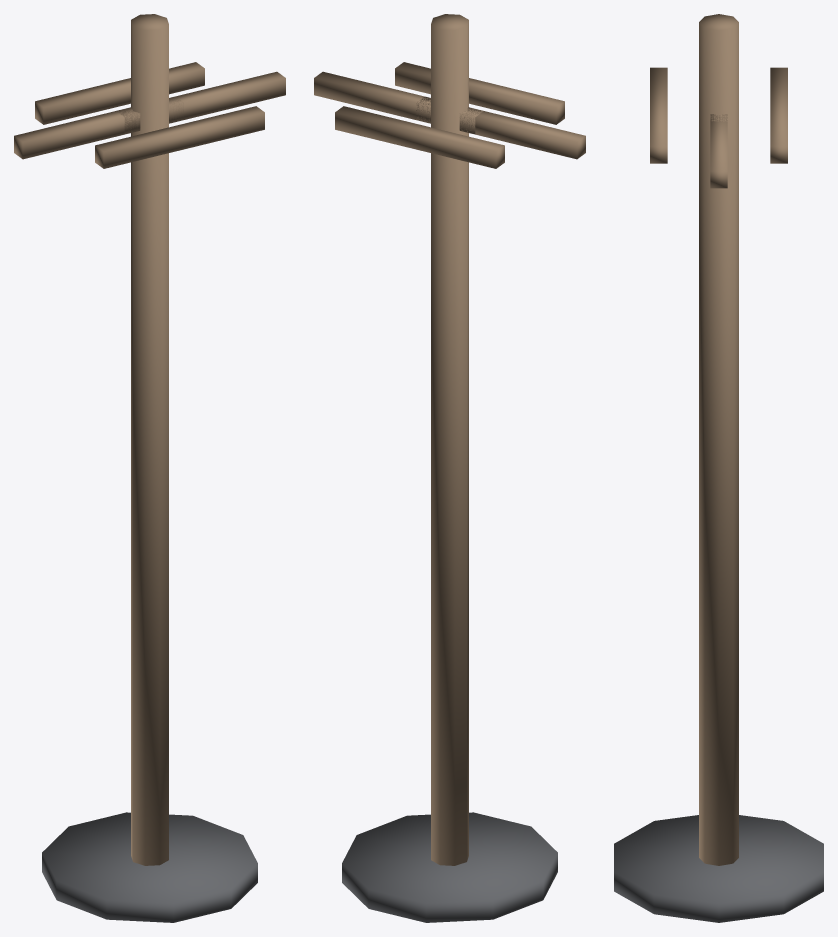
Rendered from coat_rack__compact.glb.
The picture shows the model from 3 angles, left to right: view 1: azimuth 30°, elevation 25°; view 2: azimuth 150°, elevation 25°; view 3: azimuth 270°, elevation 25°; orthographic projection.
Visible parts, largest first — view 1: world; view 2: world; view 3: world.
Part boxes in pixels (<box>): world: <box>14,14,285,922</box>; world: <box>314,14,585,922</box>; world: <box>614,14,823,922</box>.
Size of the model in its own units: 0.5208 by 1.62 by 0.3599.
